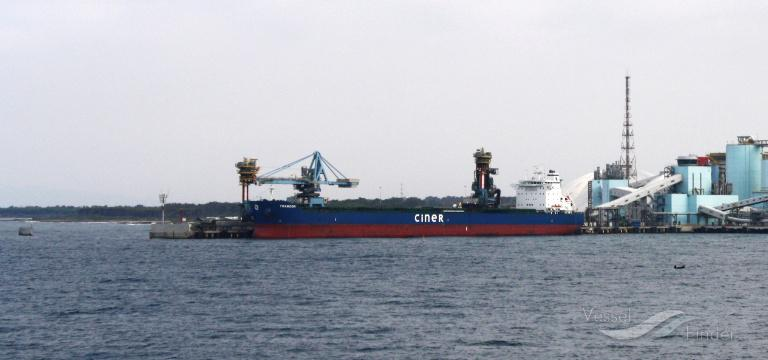OCR: (406, 210, 446, 228)
